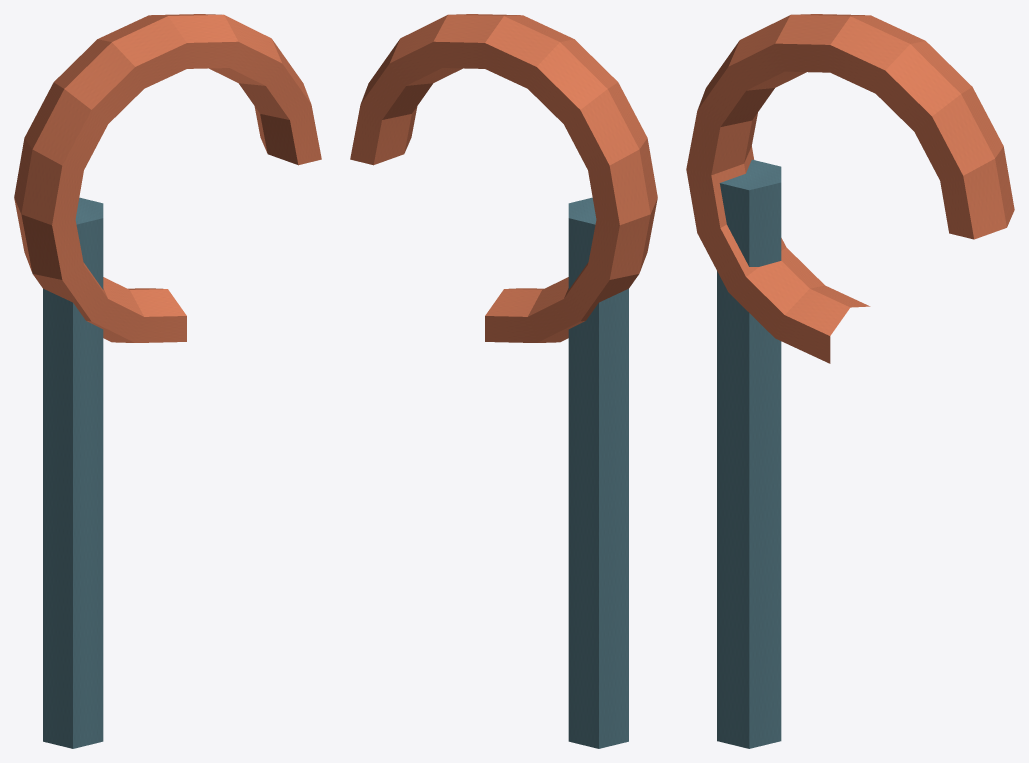
The model's file is atlas100-s048-a05.lod1.glb.
The picture shows the model from 3 angles, left to right: view 1: azimuth 30°, elevation 25°; view 2: azimuth 150°, elevation 25°; view 3: azimuth 330°, elevation 25°; orthographic projection. The views are drawn at different scales.
Visible parts, largest first — view 1: atlas100-s048-a05:part-001, atlas100-s048-a05:part-000; view 2: atlas100-s048-a05:part-001, atlas100-s048-a05:part-000; view 3: atlas100-s048-a05:part-001, atlas100-s048-a05:part-000.
Boxes of the visible parts, box(x1,y1,x2,y2) form: atlas100-s048-a05:part-001: box(14, 14, 321, 342); atlas100-s048-a05:part-000: box(43, 197, 103, 748); atlas100-s048-a05:part-001: box(350, 14, 657, 342); atlas100-s048-a05:part-000: box(568, 197, 628, 748); atlas100-s048-a05:part-001: box(686, 14, 1014, 363); atlas100-s048-a05:part-000: box(717, 159, 781, 748).
Bounding box in the file's own units: 0.3713 × 0.8408 × 0.0832.
Materials: 2 (2 with a texture image).
